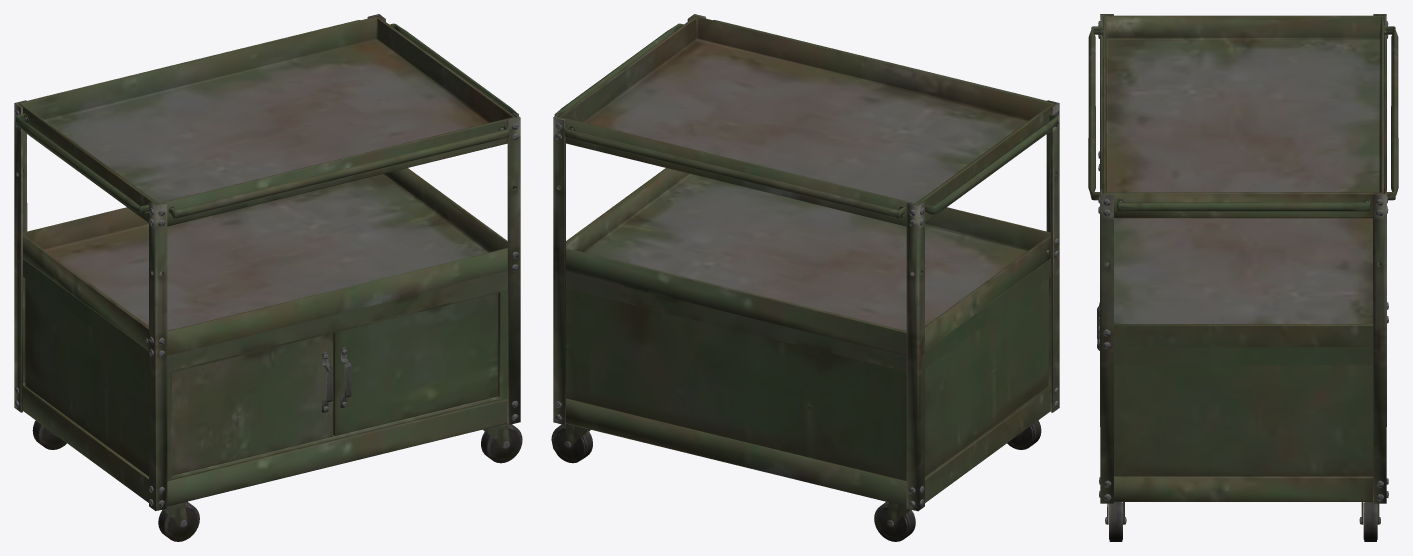
File: industrial_storage_cart.glb
The picture shows the model from 3 angles, left to right: view 1: azimuth 30°, elevation 25°; view 2: azimuth 150°, elevation 25°; view 3: azimuth 270°, elevation 25°; orthographic projection.
Parts seen in each view (by area): view 1: industrial_storage_cart; view 2: industrial_storage_cart; view 3: industrial_storage_cart.
Part boxes in pixels (left/top/right/bottom): industrial_storage_cart: left=14, top=14, right=522, bottom=541; industrial_storage_cart: left=551, top=14, right=1059, bottom=541; industrial_storage_cart: left=1088, top=14, right=1398, bottom=541.
Size of the model in its own units: 1.6 by 1.38 by 1.1.
1 material, 1 textured.
